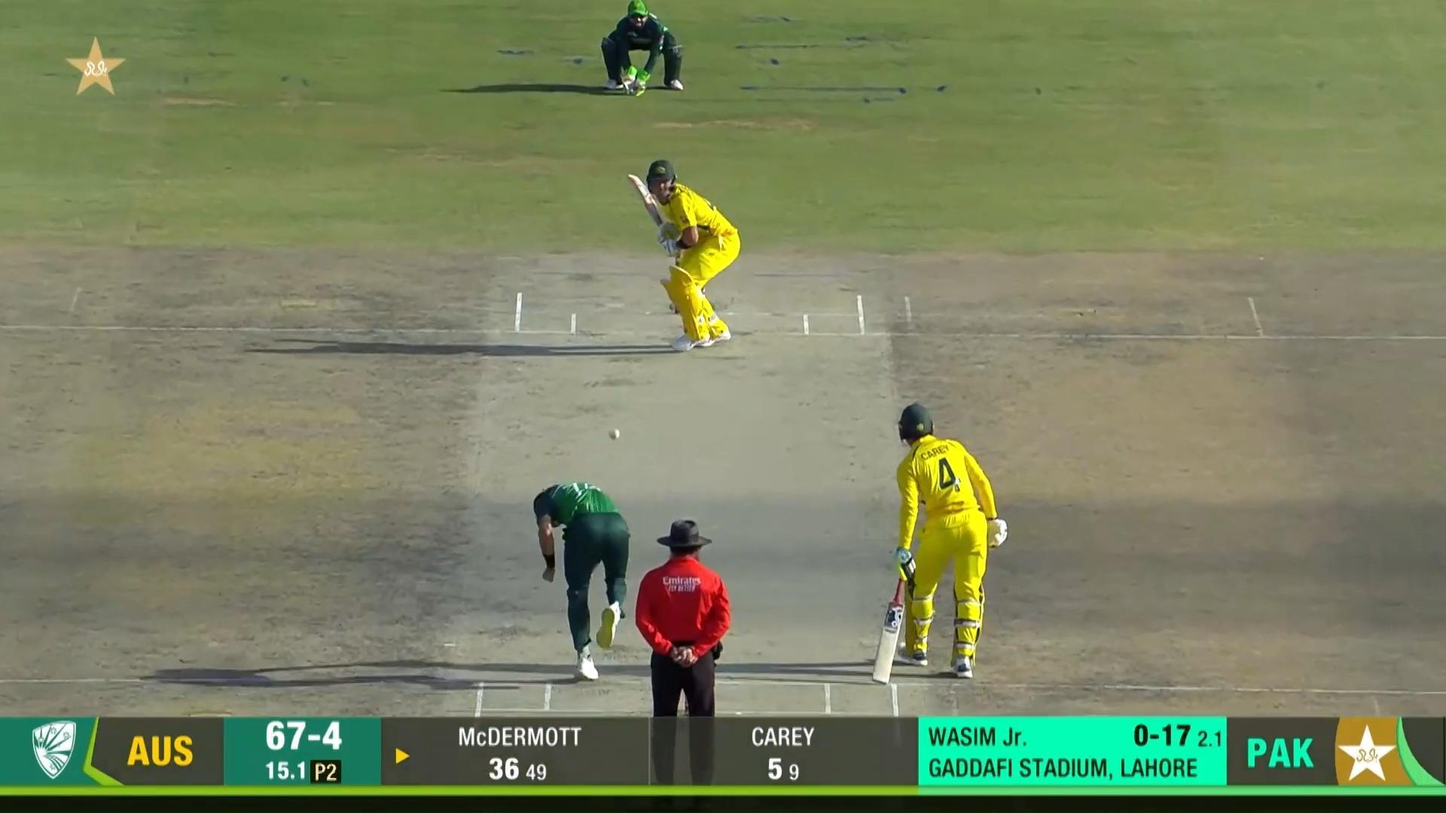BM 1: (626, 160, 741, 354)
BO: (532, 481, 633, 679)
